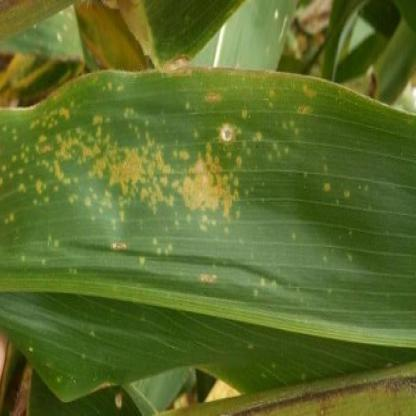Corn rust leaf: (0, 50, 416, 406)
